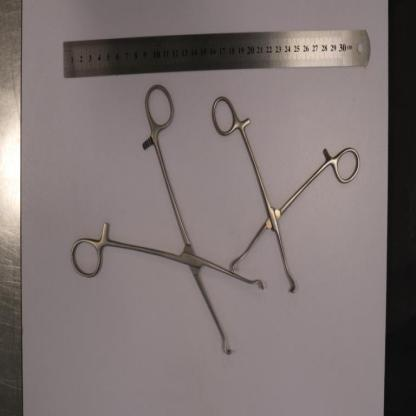8 Babcock Tissue Forceps: (71, 83, 265, 354)
Babcock Tissue Forceps: (212, 98, 361, 292)
